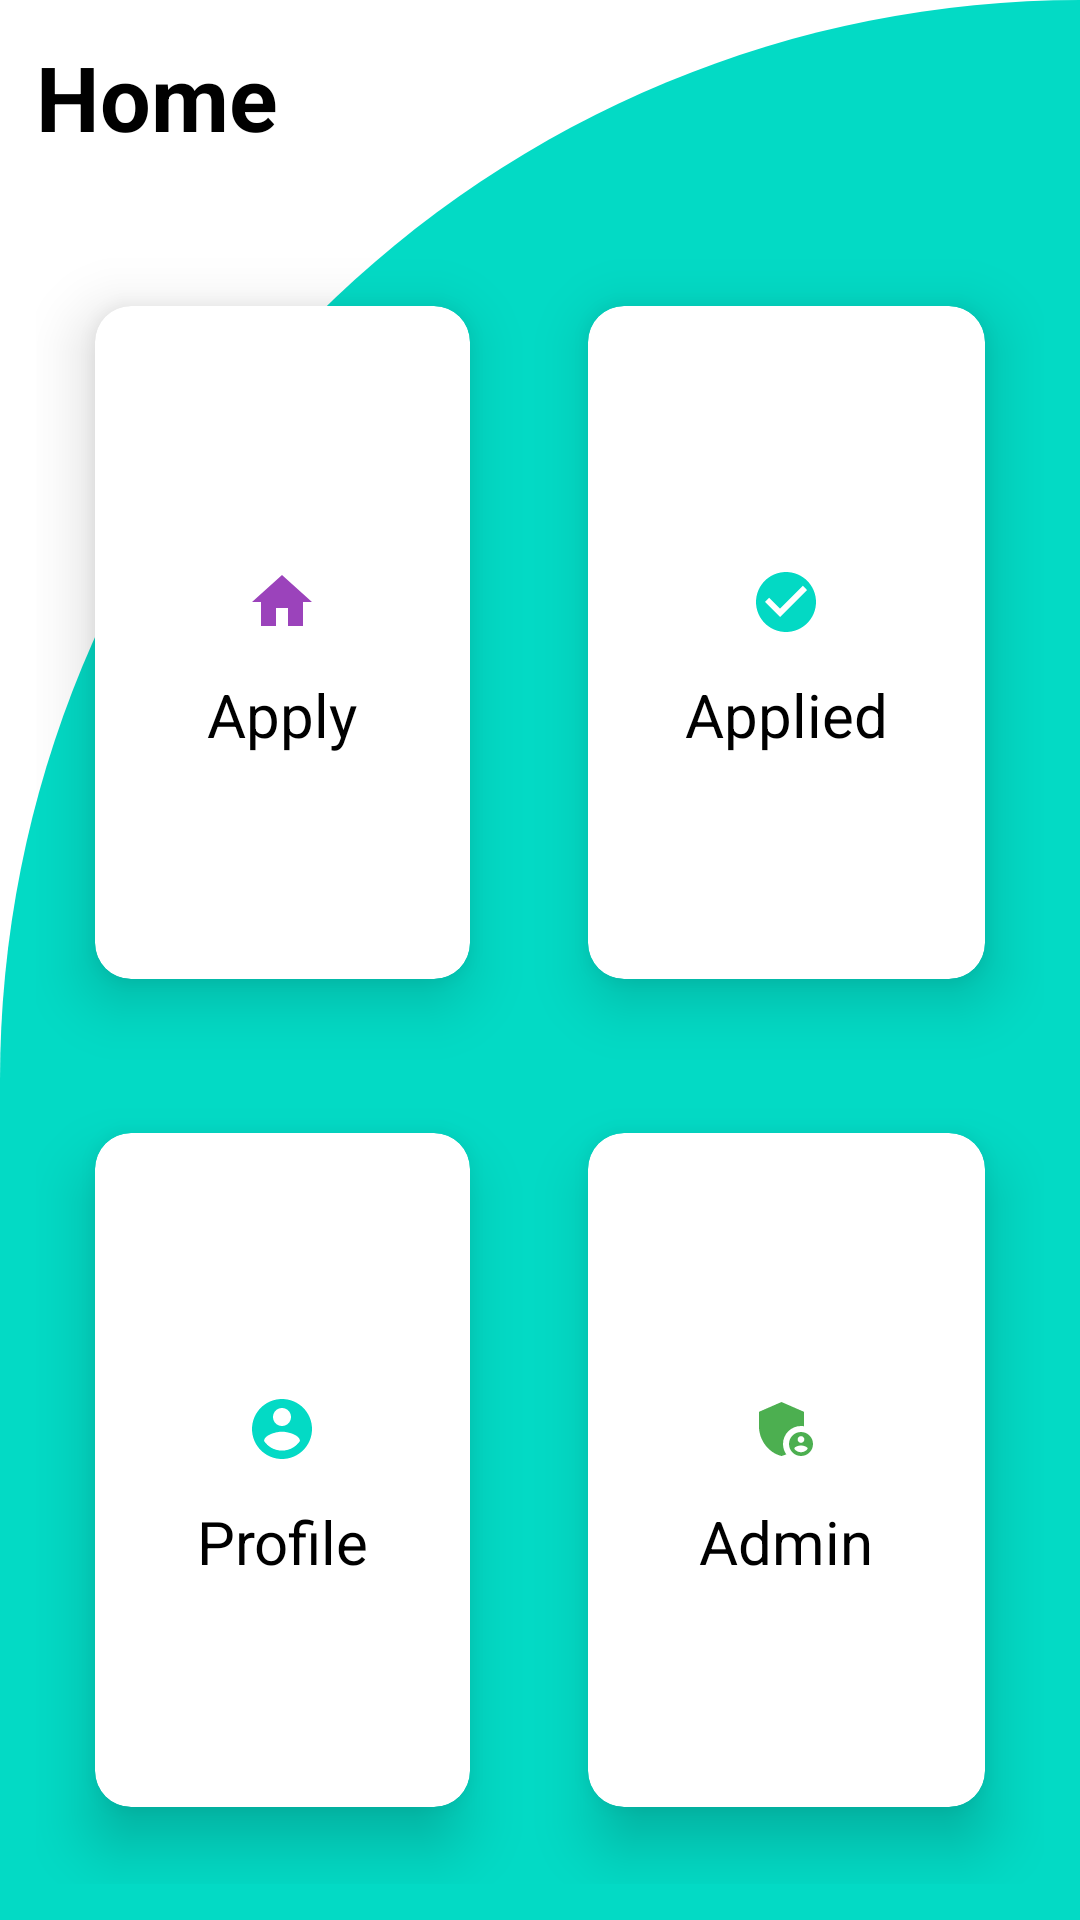

Screen size 1080x1920. Icon name, then its center in pixels as point (x, y):
account circle: point (282, 1429)
check circle: point (786, 602)
home: point (282, 600)
